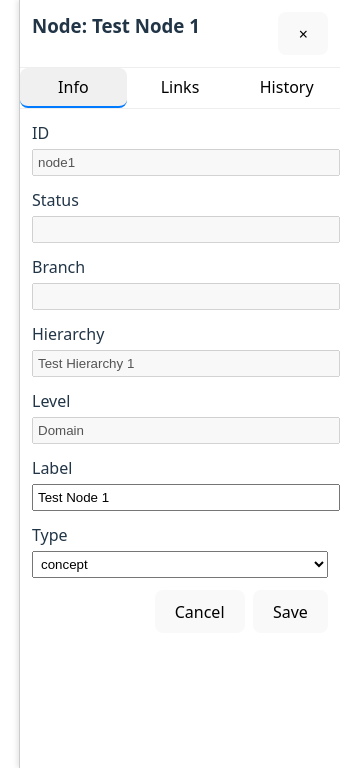
it: NodeDrawer › switches between tabs
# Click on Links tab
Click the button "Links" at {"x": 180, "y": 88}, box [127, 68, 233, 108]
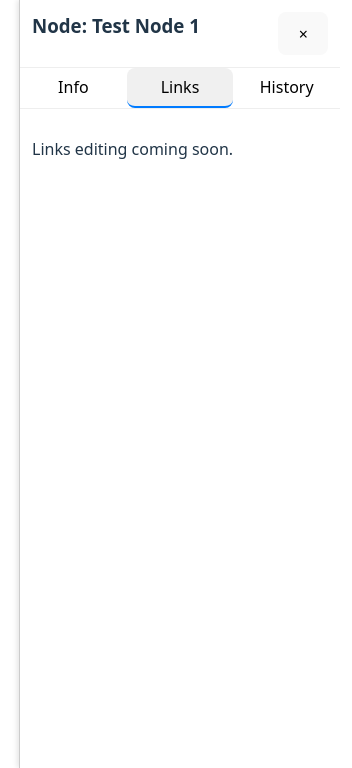
Expected: the text "Links editing coming soon." is shown, [32, 138, 233, 160]
# Click on History tab
Click the button "History" at {"x": 287, "y": 88}, box [233, 68, 340, 108]
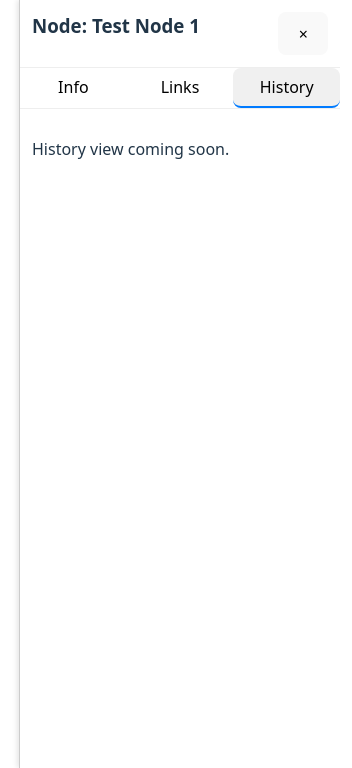
Expected: the text "History view coming soon." is shown, [32, 138, 229, 160]
# Click back to Info tab
Click the button "Info" at {"x": 73, "y": 88}, box [20, 68, 127, 108]
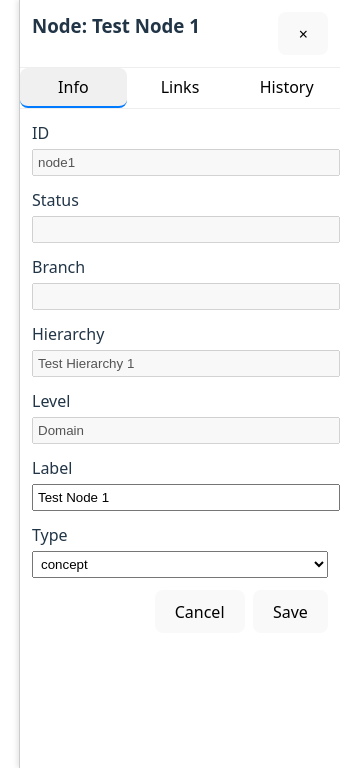
Expected: the 1st field showing "node1" is shown, [32, 149, 340, 176]
